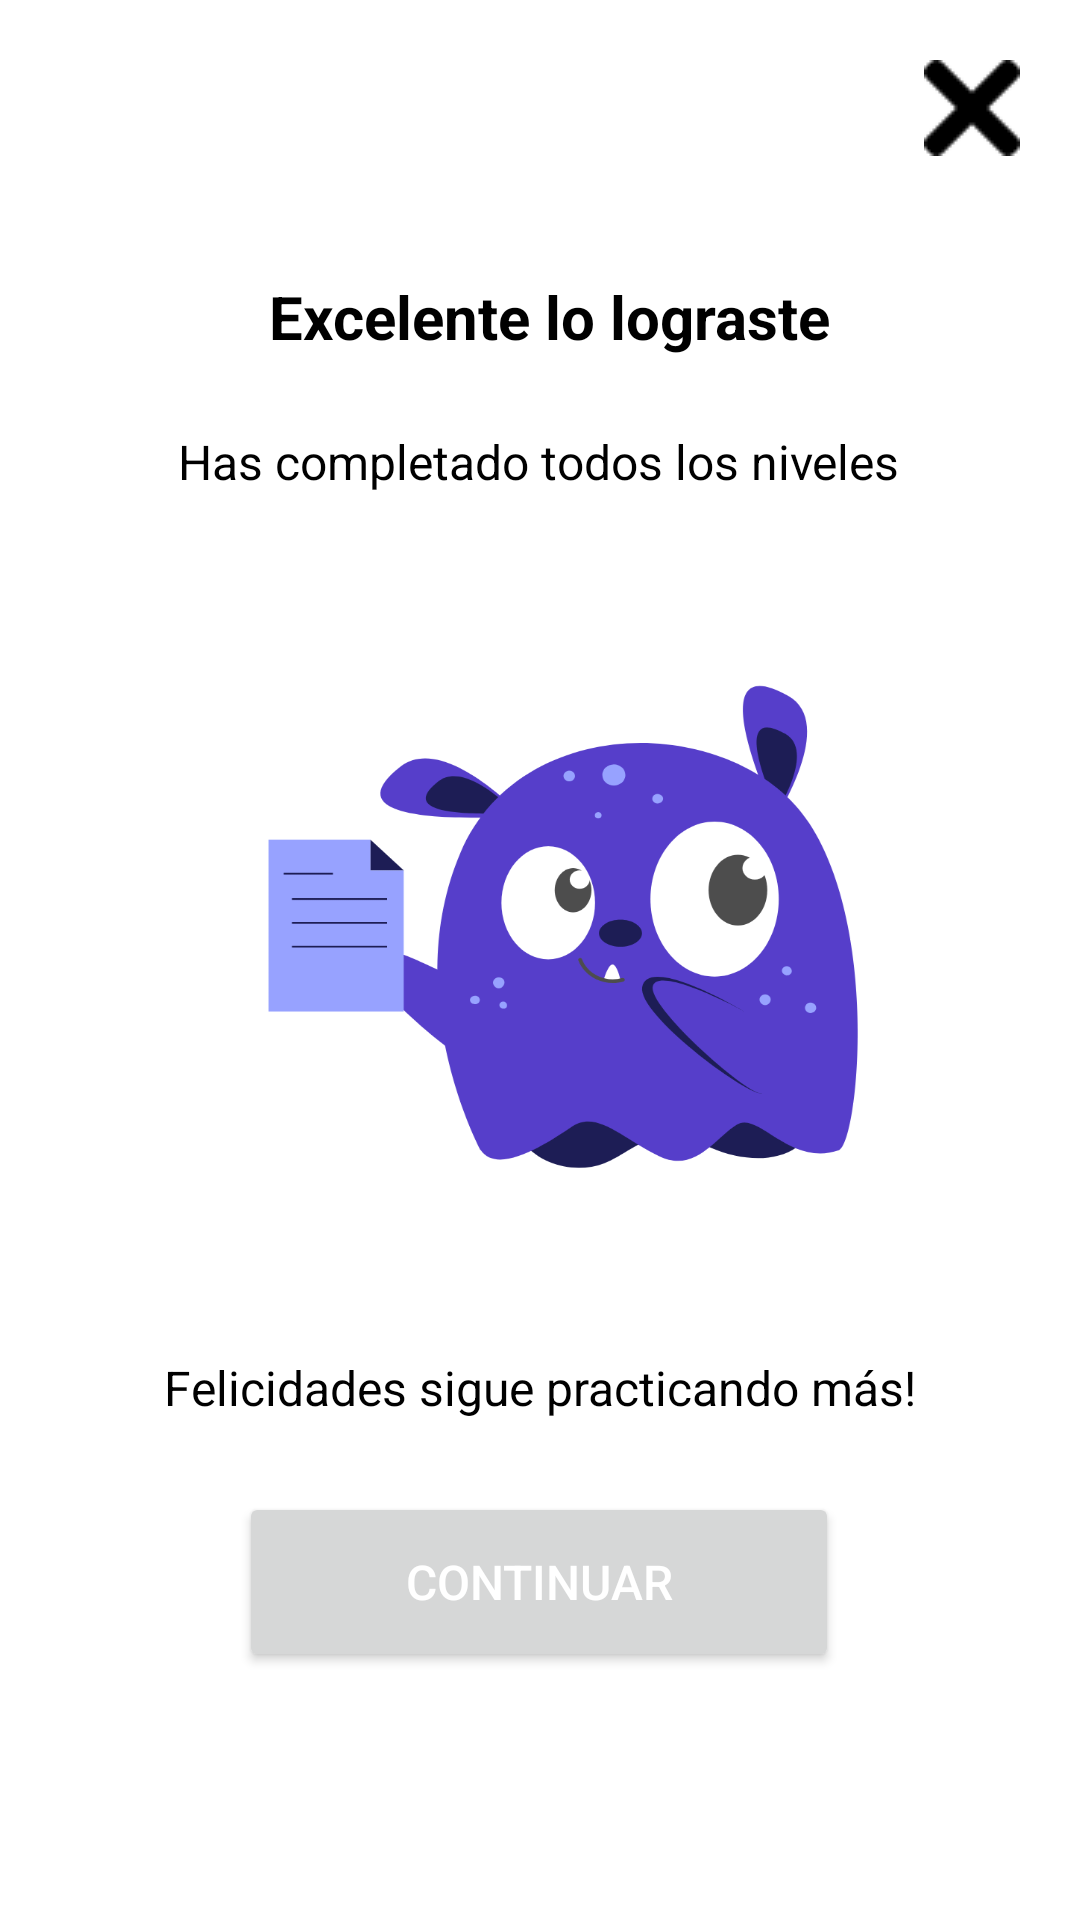

Named icons in this screenshot (1080px x 1920px) and their bounding boxes, (x1, y1, x2, y2):
Cerrar: (924, 60, 1020, 156)
